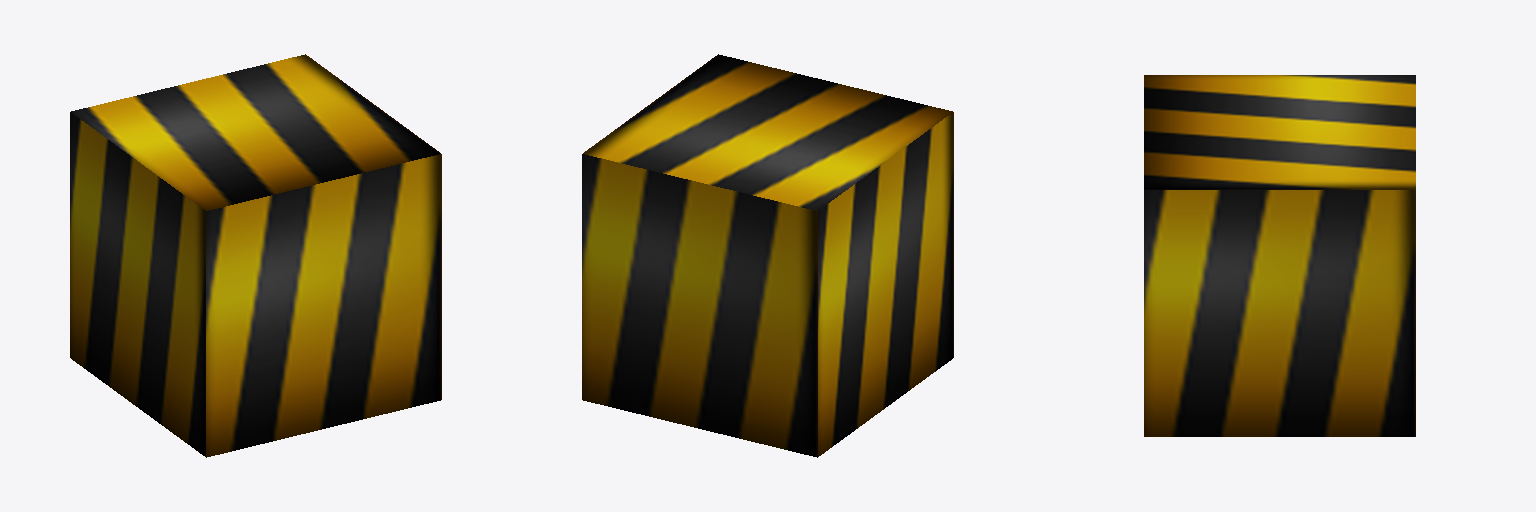
The picture shows the model from 3 angles: view 1: azimuth 30°, elevation 25°; view 2: azimuth 150°, elevation 25°; view 3: azimuth 270°, elevation 25°; orthographic projection.
Visible parts, largest first — view 1: Box001; view 2: Box001; view 3: Box001.
Boxes of the visible parts, x1=… form: Box001: x1=70, y1=54, x2=441, y2=457; Box001: x1=582, y1=54, x2=953, y2=457; Box001: x1=1144, y1=75, x2=1415, y2=436.
Bounding box in the file's own units: 1 × 1 × 1.
Materials: 1 (1 with a texture image).